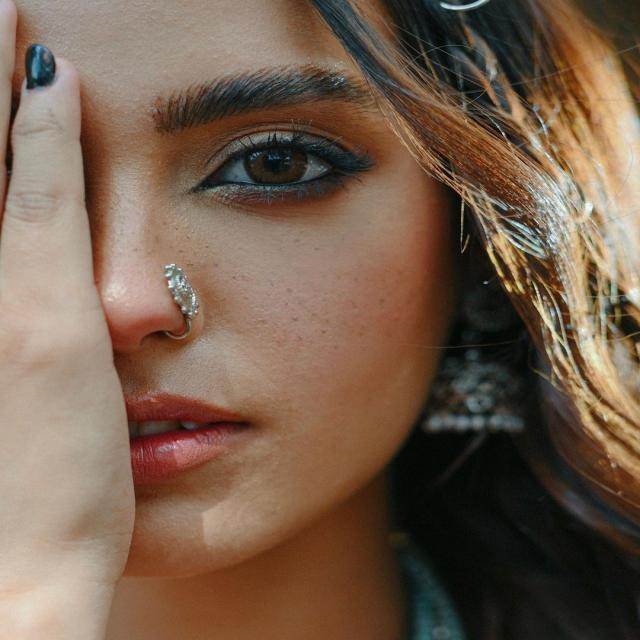Earring: (422, 304, 534, 483)
